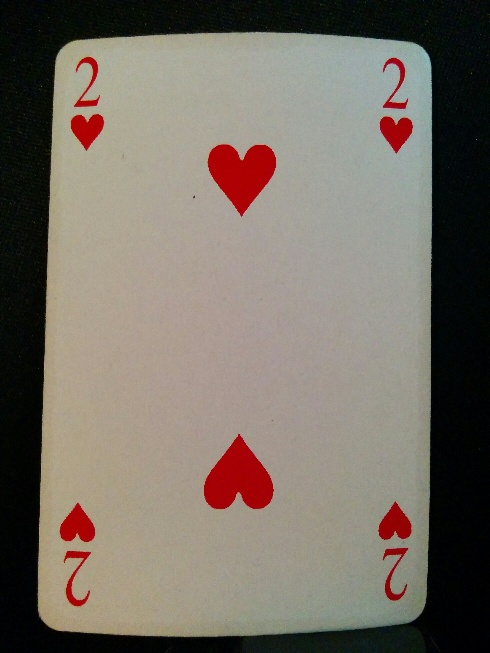H2: (57, 499, 105, 610), (374, 495, 417, 608), (375, 49, 417, 155), (67, 55, 109, 154)
